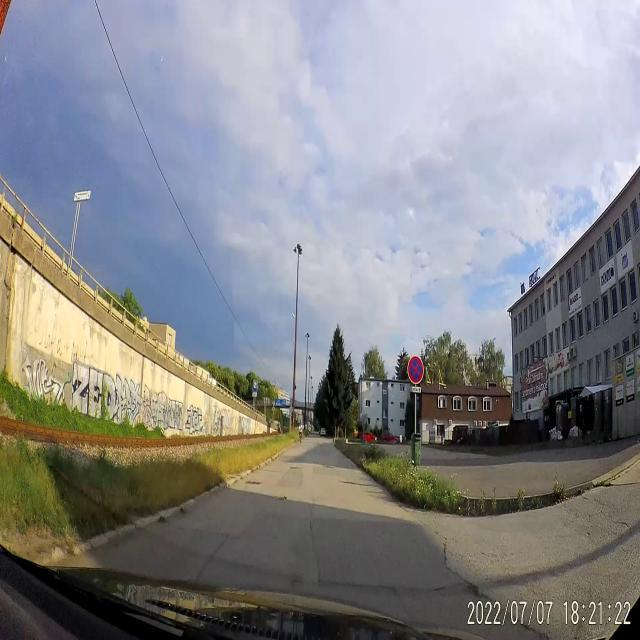Pothole: (270, 492, 288, 504), (242, 480, 262, 490)
